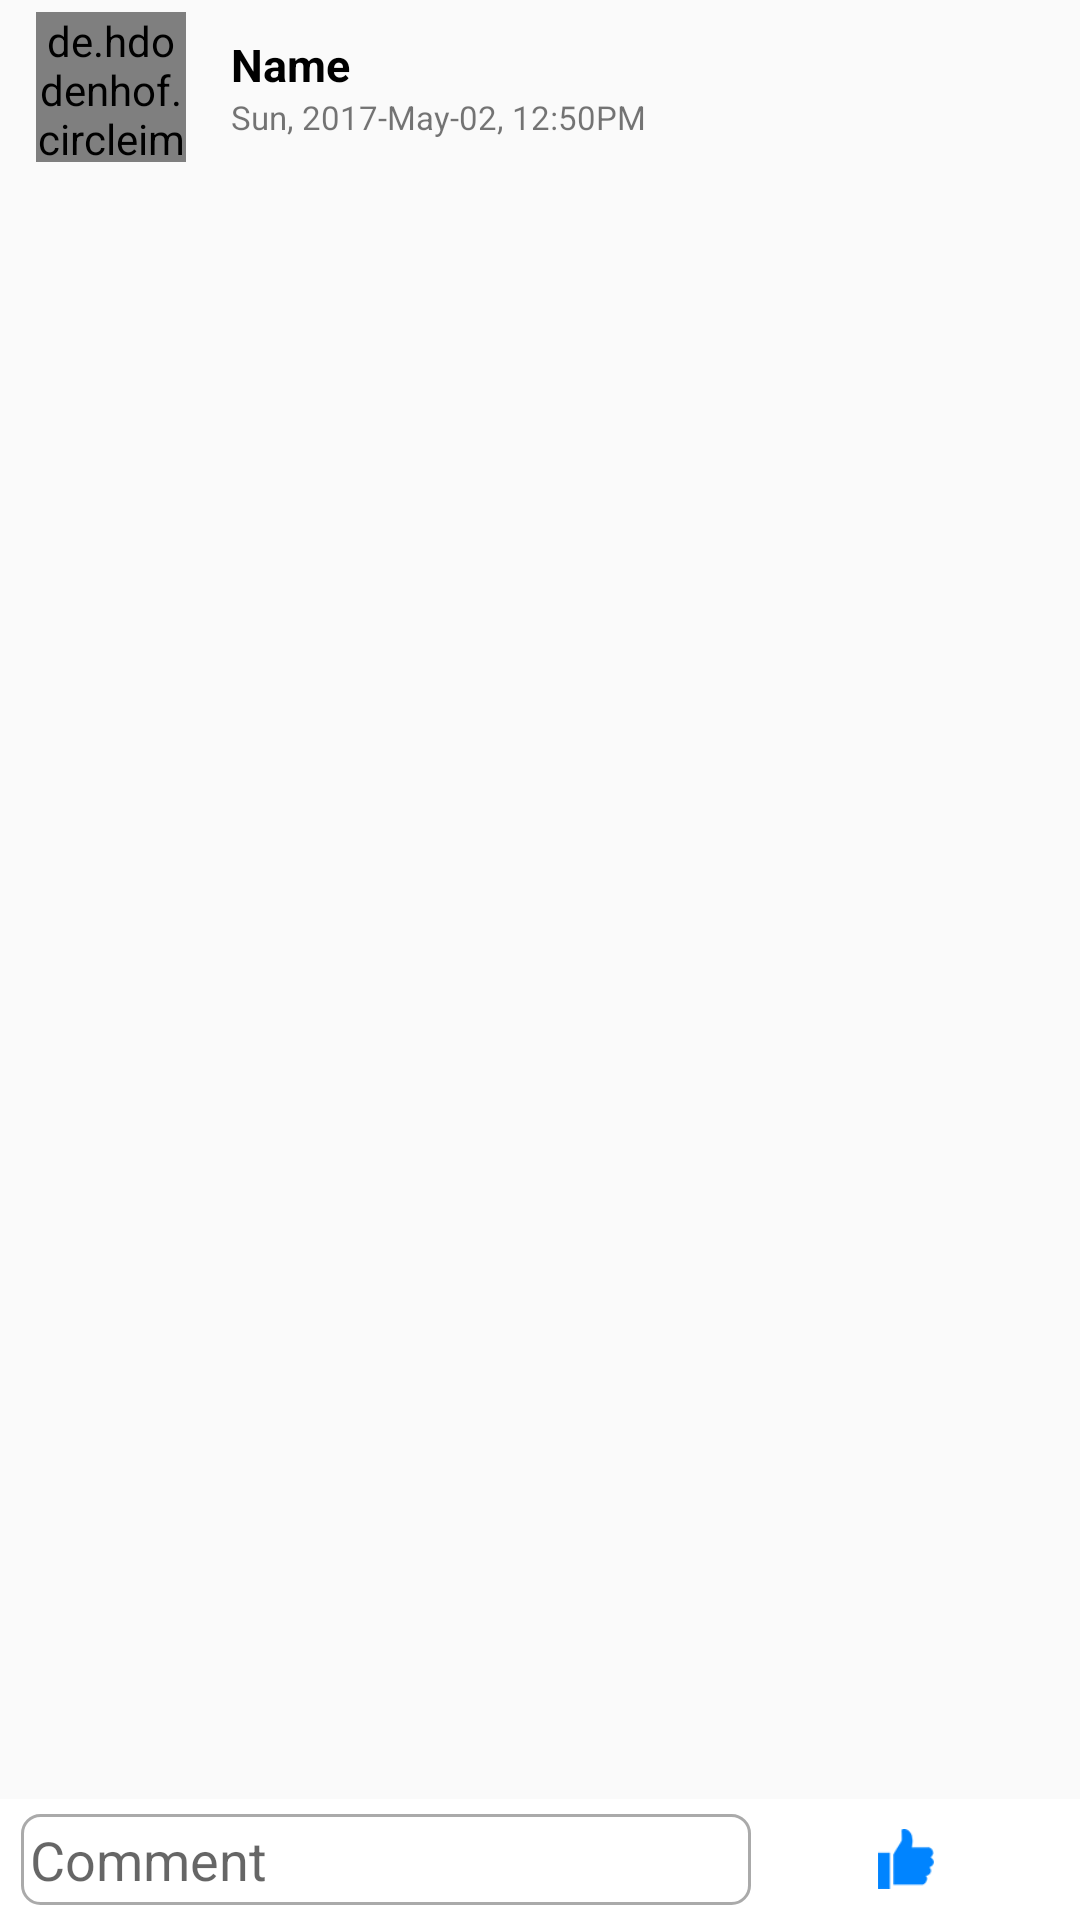

Where to tap for icons on this 1080x1920 app screen, as [x,y]:
likethumb: [906,1859]
